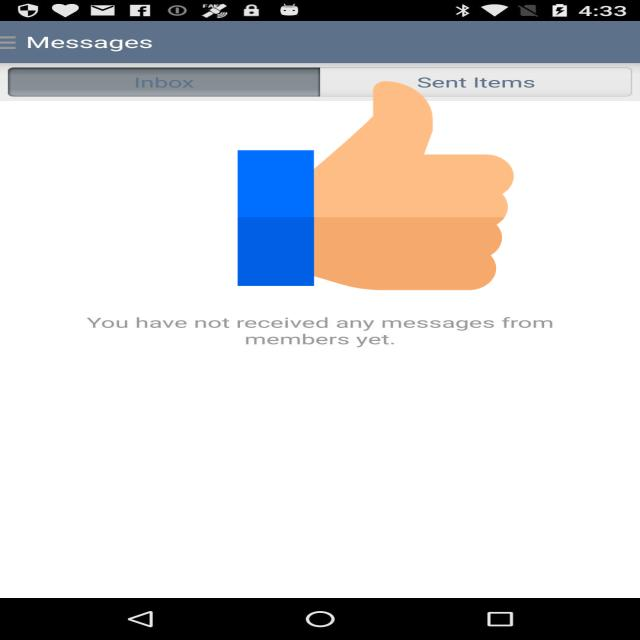privacy zuckering: (237, 76, 514, 295)
